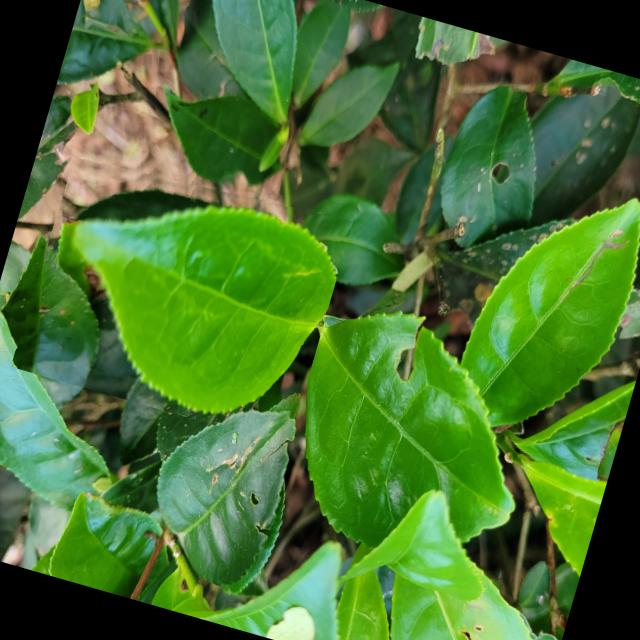Catagory A(1-2 days): (9, 141, 352, 446)
